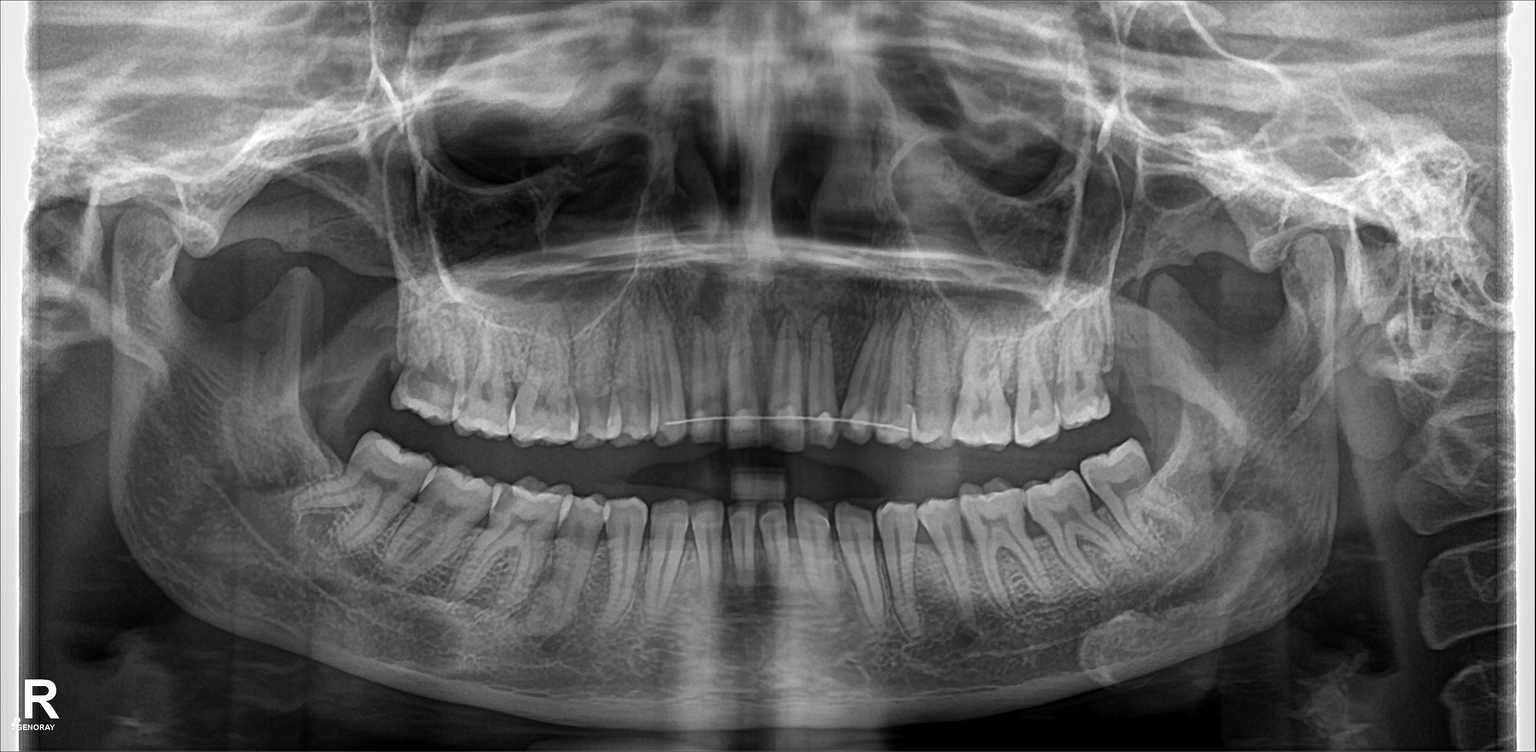Dental Caries: (410, 359, 463, 404)
Missing Tooth: (335, 277, 410, 399), (1110, 292, 1162, 423)
